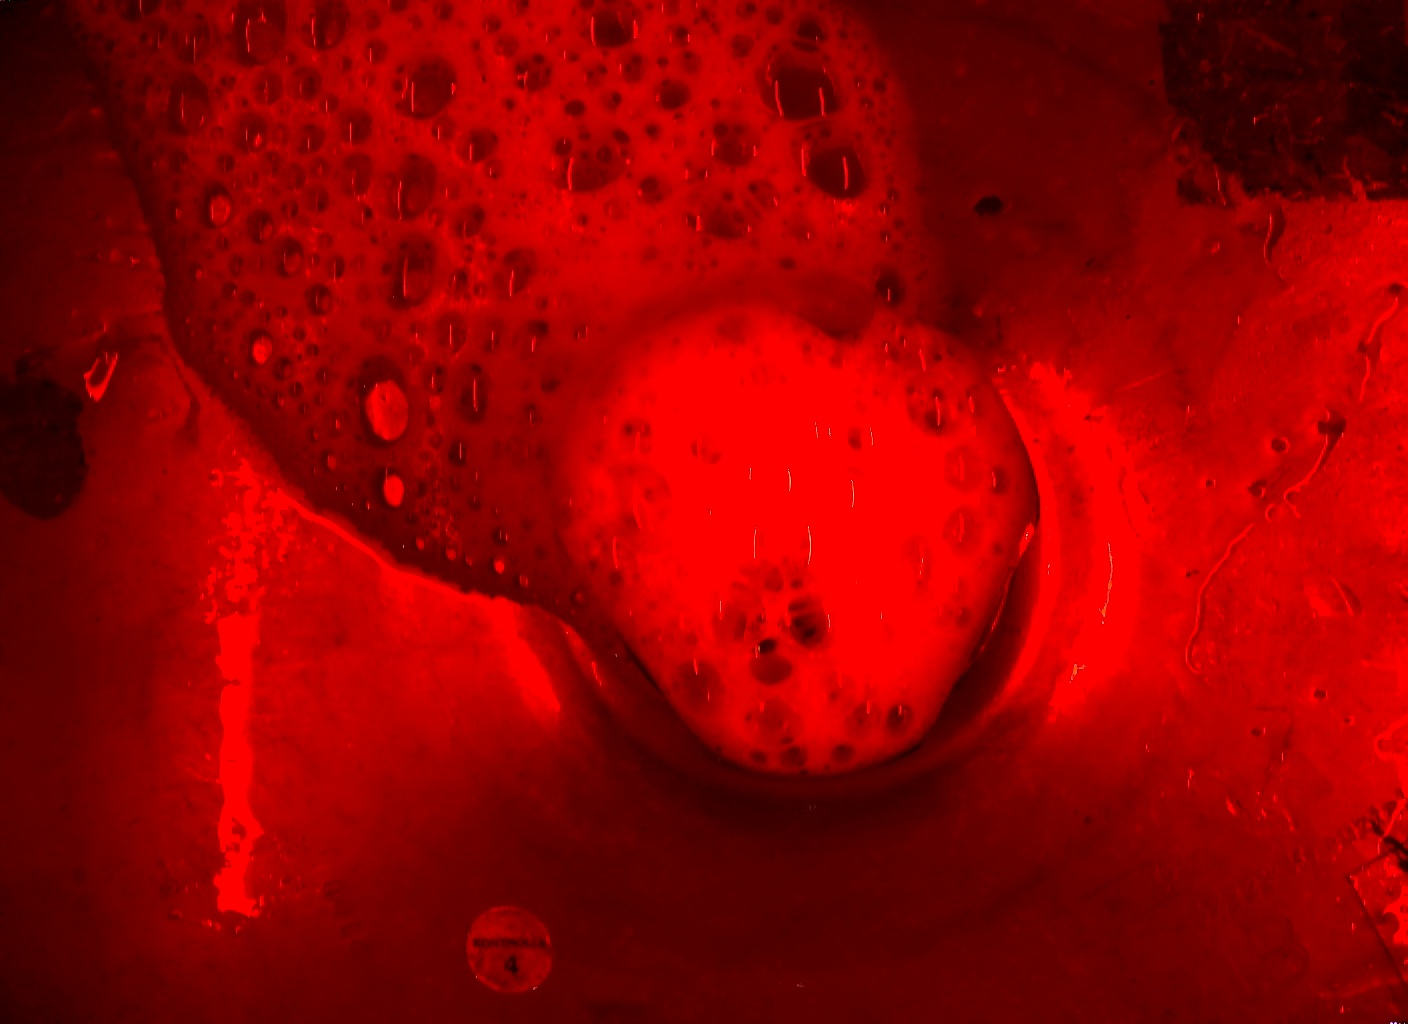pena: (56, 8, 950, 310), (159, 311, 558, 602)
shapka: (560, 313, 1043, 776)
